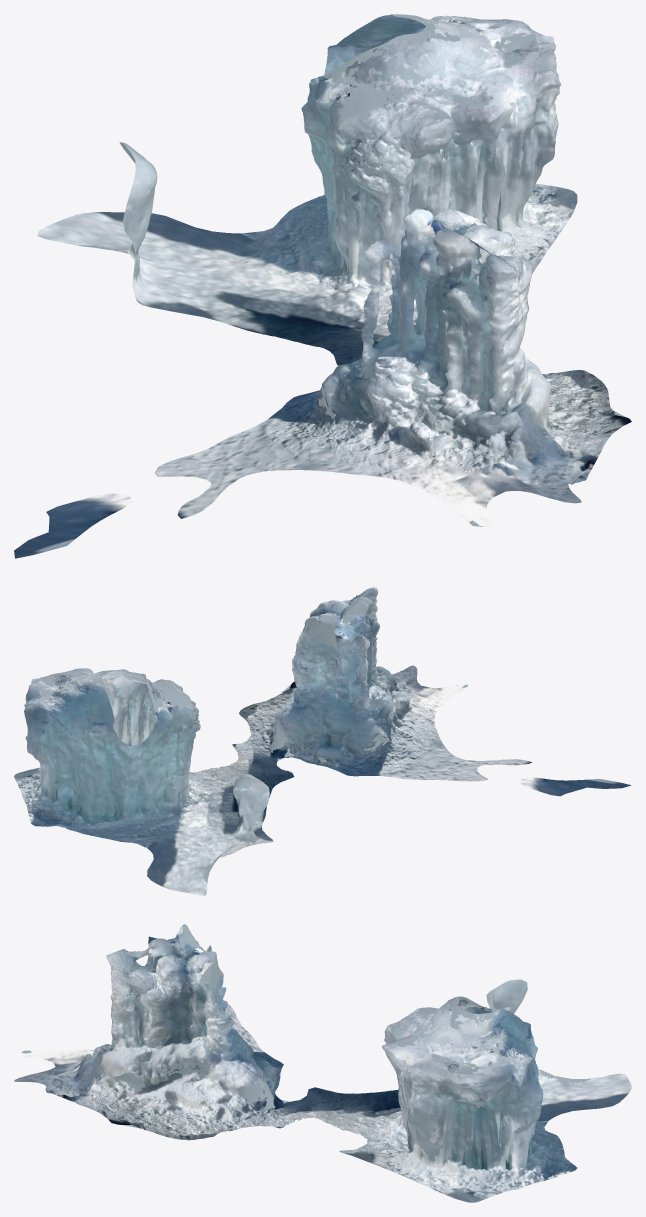
Rendered from iceCastles.glb.
3 views of the same model, one above another, from view 1: azimuth 30°, elevation 25°; view 2: azimuth 150°, elevation 25°; view 3: azimuth 270°, elevation 25° (orthographic). The views are drawn at different scales.
Visible parts, largest first — view 1: Object_4, Object_5, Object_3, Object_6, Object_2, Object_7, Object_8; view 2: Object_4, Object_5, Object_3, Object_2, Object_6, Object_7; view 3: Object_3, Object_4, Object_2, Object_5, Object_6, Object_7, Object_8.
Part boxes in pixels (left/top/right/bottom): Object_4: left=37, top=17, right=610, bottom=480; Object_5: left=58, top=15, right=608, bottom=518; Object_3: left=77, top=14, right=626, bottom=526; Object_6: left=14, top=16, right=631, bottom=558; Object_2: left=271, top=14, right=612, bottom=481; Object_7: left=102, top=16, right=611, bottom=490; Object_8: left=76, top=16, right=612, bottom=526; Object_4: left=14, top=587, right=415, bottom=895; Object_5: left=20, top=590, right=552, bottom=841; Object_3: left=25, top=588, right=487, bottom=889; Object_2: left=24, top=600, right=435, bottom=839; Object_6: left=29, top=587, right=631, bottom=854; Object_7: left=29, top=589, right=435, bottom=876; Object_3: left=21, top=924, right=631, bottom=1185; Object_4: left=67, top=942, right=631, bottom=1202; Object_2: left=80, top=957, right=571, bottom=1182; Object_5: left=30, top=934, right=542, bottom=1191; Object_6: left=14, top=924, right=577, bottom=1192; Object_7: left=48, top=935, right=581, bottom=1186; Object_8: left=21, top=945, right=606, bottom=1173.
Size of the model in its own units: 6.36 by 1.89 by 6.27.
7 materials, 7 textured.
